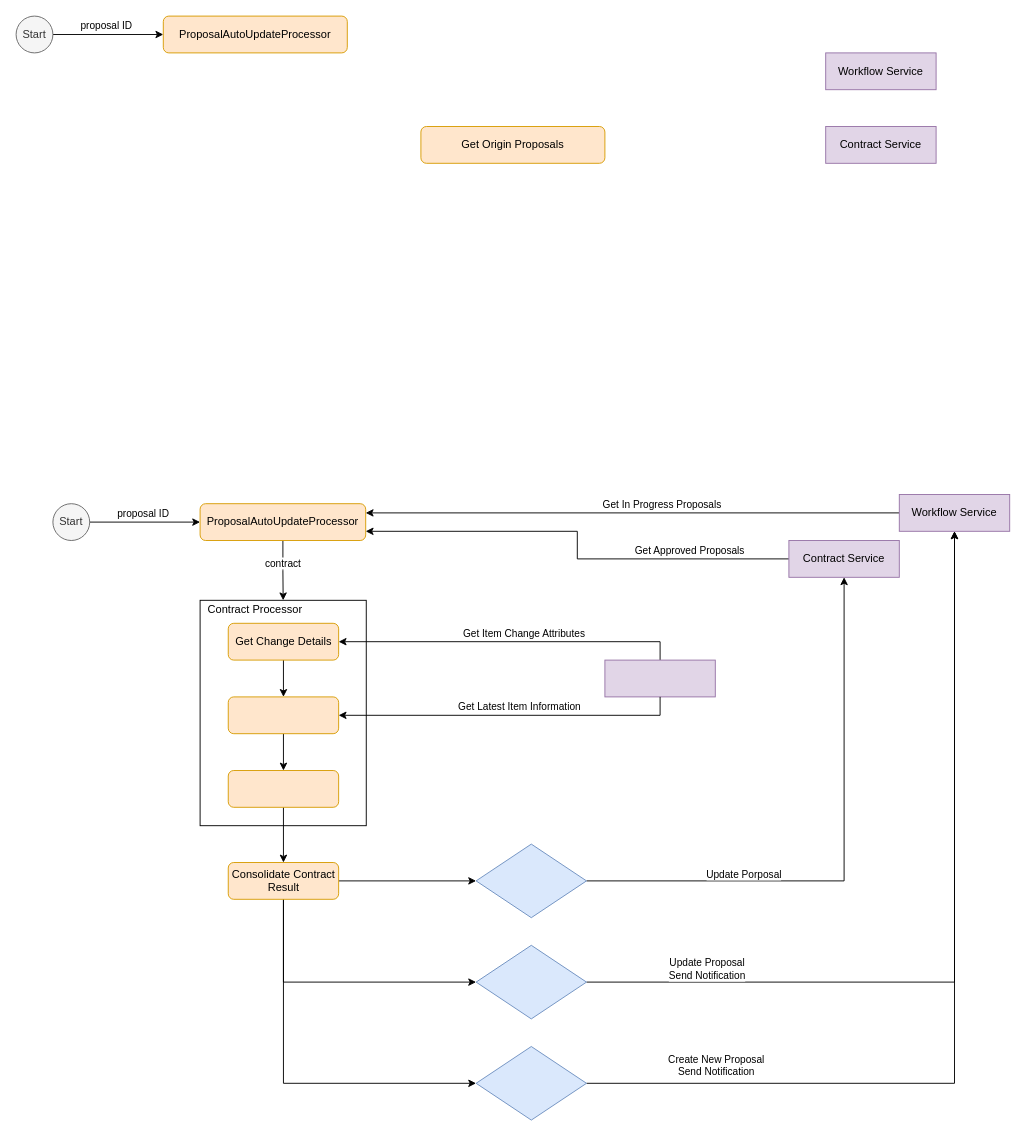
The diagram is 1026 pixels wide and 1136 high, and some of its shapes have lost their labels. The shapes that lost their labels are listed below. From the top down, each one's box as (x1, y1, x2, y2) in pixels, then its label:
(604, 659, 715, 697): Product Service
(227, 696, 339, 734): Build Change Details
(227, 770, 339, 807): Call Strategy
(475, 843, 586, 918): Update Proposal
(475, 944, 586, 1019): Update Workflow
(475, 1046, 586, 1120): Create New Proposal
